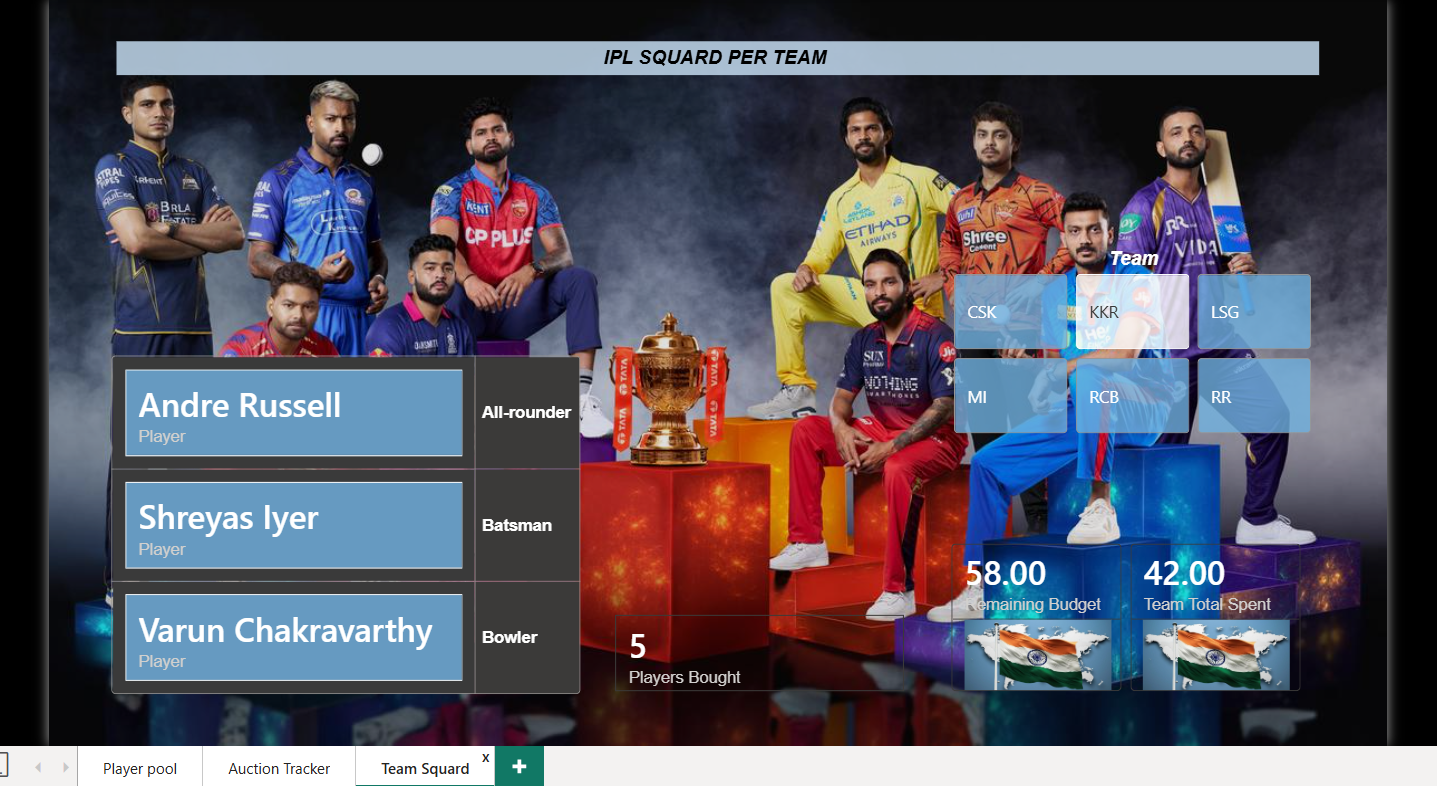

What the dashboard file says about the page in this screenshot:
{"tool":"powerbi","page":{"name":"Team Squard","canvas":[1297,723],"ordinal":2},"visuals":[{"type":"cardVisual","fields":{"Data":["Min(Purchased Players.Player)"],"Rows":["Purchased Players.Role"]},"box":[55.5,319.7,464.5,378.8],"z":0},{"type":"cardVisual","fields":{"Data":["Bid Amount.Remaining Budget","Bid Amount.Team Total Spent"]},"box":[857.8,510.3,372.8,177.3],"z":1000},{"type":"advancedSlicerVisual","fields":{"Values":["Purchased Players.Team"]},"box":[872.3,240.1,358.3,185.8],"z":2000},{"type":"cardVisual","fields":{"Data":["Bid Amount.Players Bought"]},"box":[532,579.1,314.9,108.6],"z":3000},{"type":"textbox","box":[65.1,39.8,1165.4,32.6],"z":4000}]}

Visuals, with their boxes in screenshot pixels (x1, y1, x2, y2):
cardVisual - Min(Purchased Players.Player) x Purchased Players.Role: {"x1": 127, "y1": 339, "x2": 625, "y2": 745}
cardVisual - Bid Amount.Remaining Budget x Bid Amount.Team Total Spent: {"x1": 987, "y1": 543, "x2": 1386, "y2": 733}
advancedSlicerVisual - Purchased Players.Team: {"x1": 1002, "y1": 254, "x2": 1386, "y2": 453}
cardVisual - Bid Amount.Players Bought: {"x1": 638, "y1": 617, "x2": 975, "y2": 733}
textbox: {"x1": 137, "y1": 39, "x2": 1386, "y2": 74}
